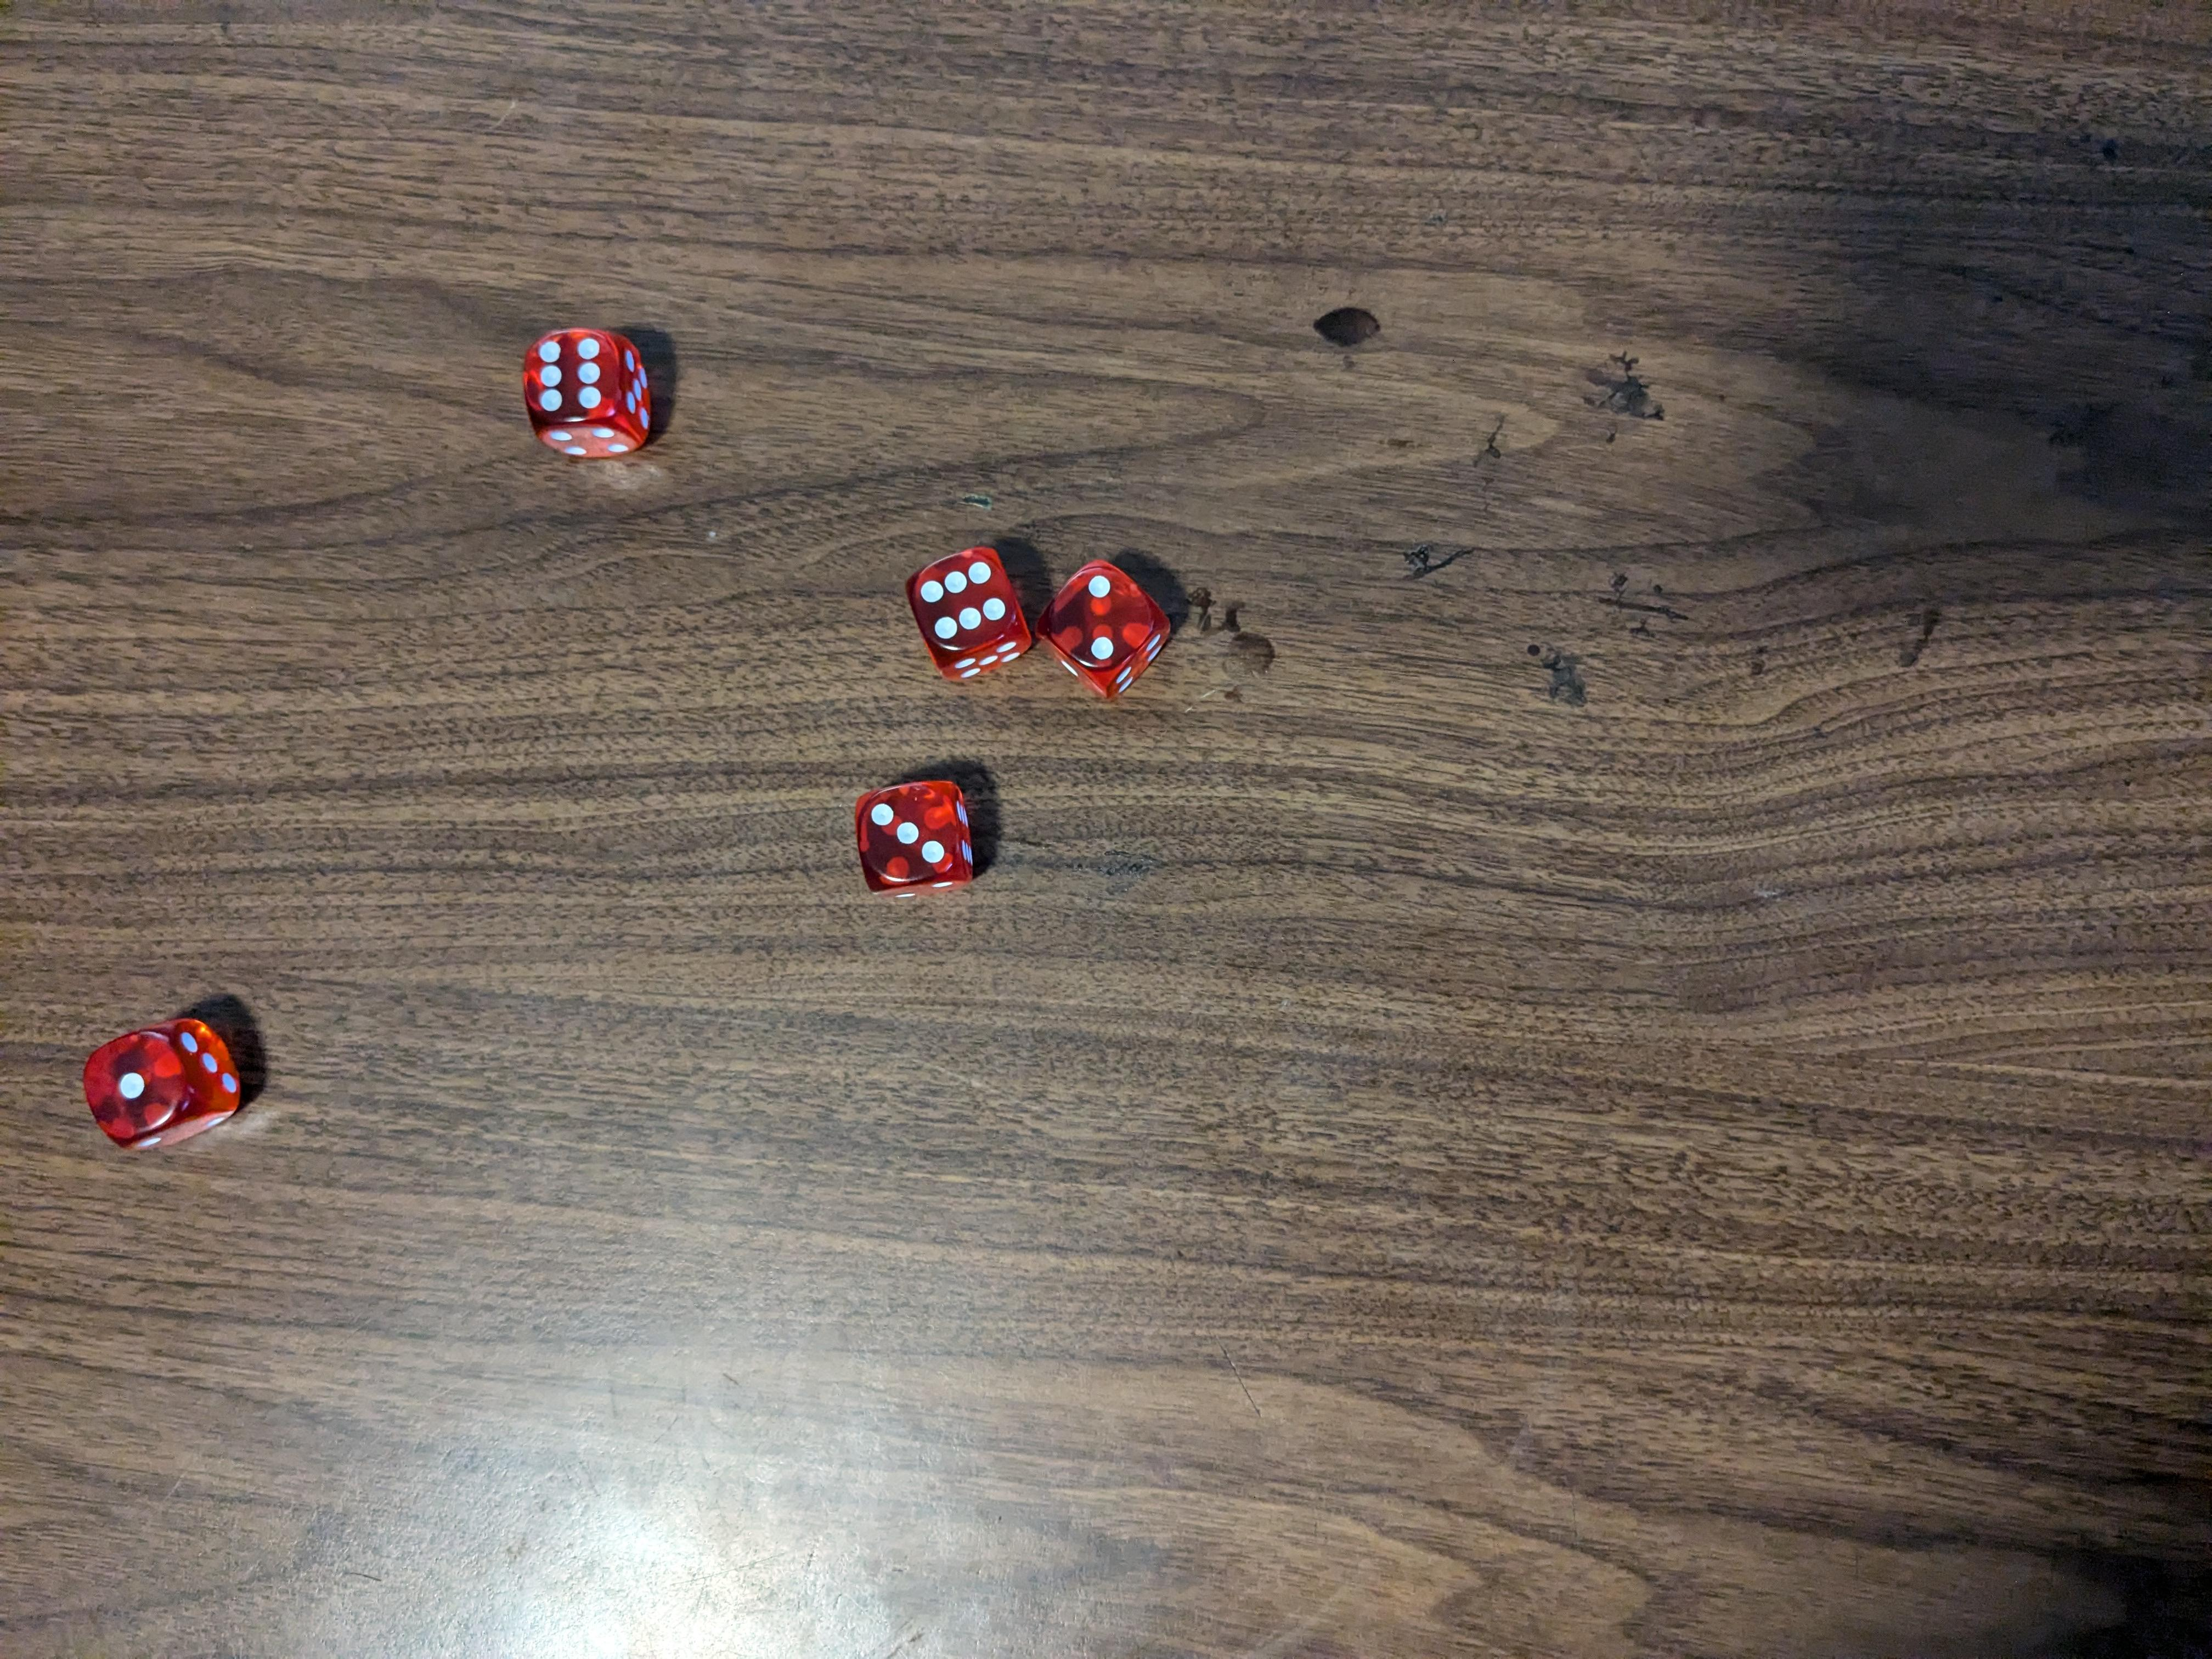one: (80, 1025, 253, 1152)
six: (519, 324, 665, 460), (909, 538, 1033, 687)
three: (852, 777, 989, 903)
two: (1040, 558, 1177, 704)
